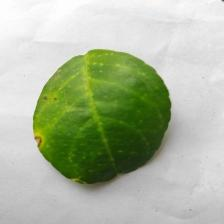canker: (27, 68, 129, 154)
